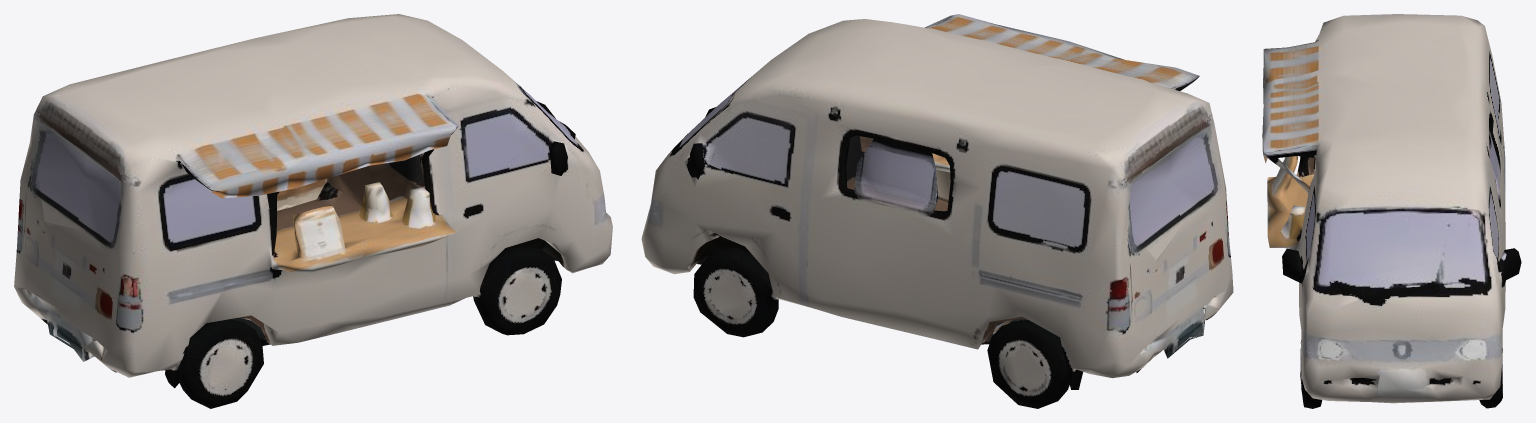
The model's file is food_truck.glb.
3 renders of one model, left to right at view 1: azimuth 30°, elevation 25°; view 2: azimuth 150°, elevation 25°; view 3: azimuth 270°, elevation 25°, orthographic. The views are drawn at different scales.
Bounding box in the file's own units: 1.01 × 0.5111 × 0.5151.
1 material, 1 textured.
